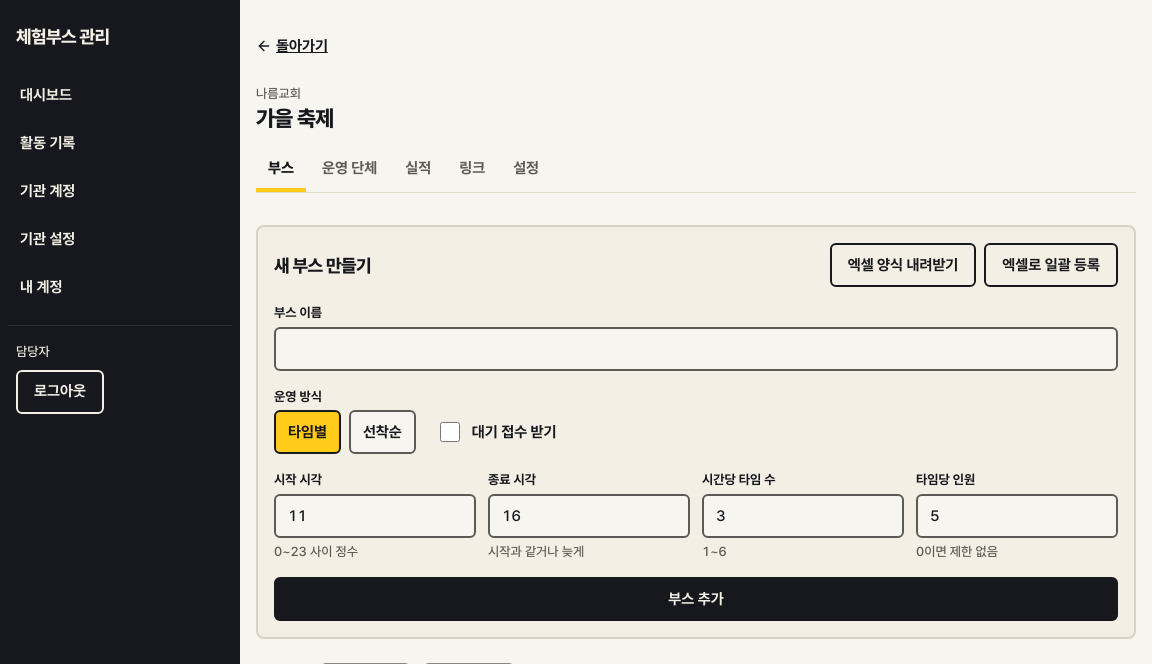
Test: 행사 화면 › 숫자 칸의 422 는 그 칸에 보인다
Type "x" into the field labelled "부스 이름" at (696, 349), box [274,327,1118,371]
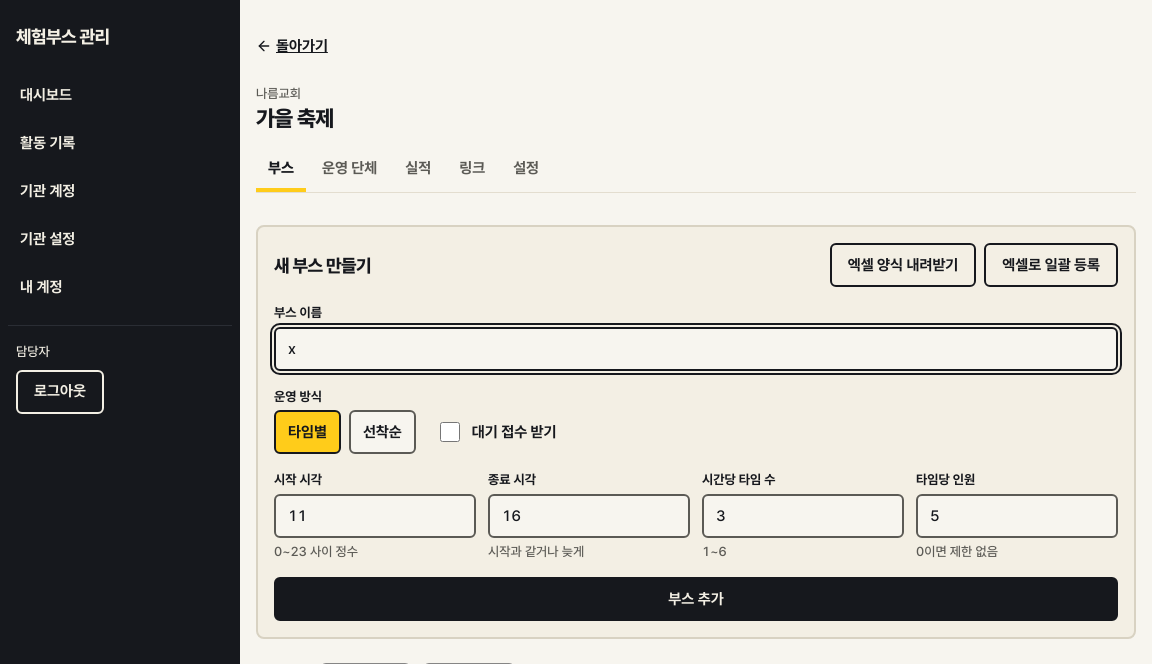
Click the button "부스 추가" at (696, 599), box [274,577,1118,621]
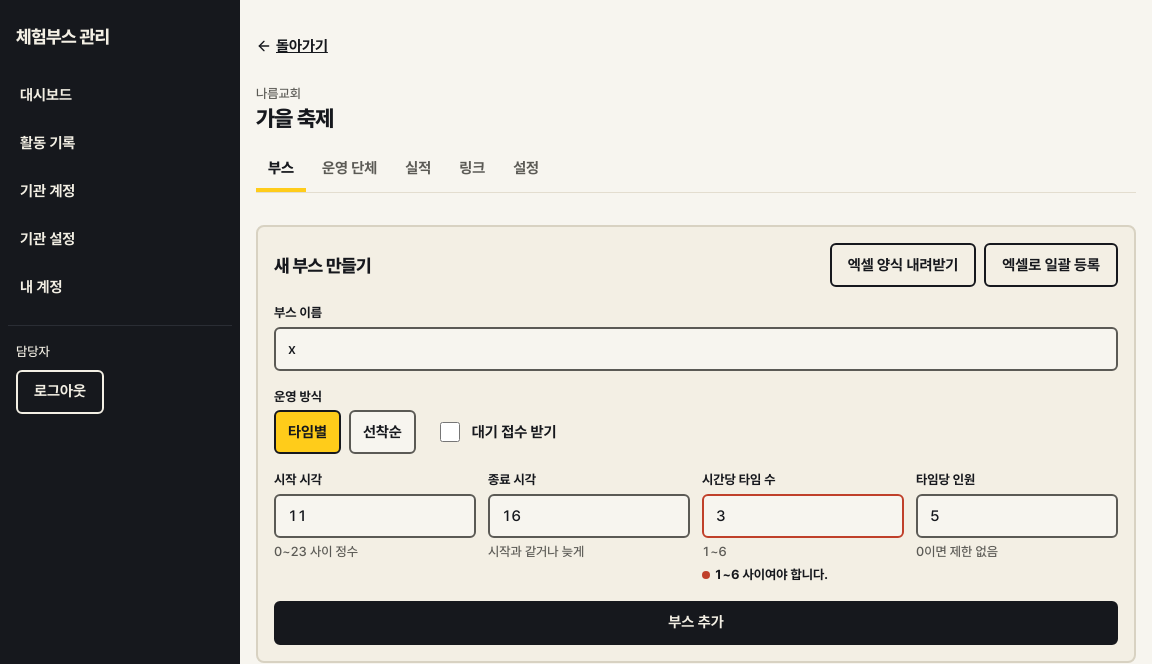
Expected: the text "1~6 사이여야 합니다." is shown, [702,567,828,582]
